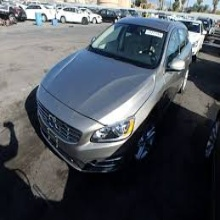no damage: (35, 17, 191, 174), (25, 3, 102, 26)
